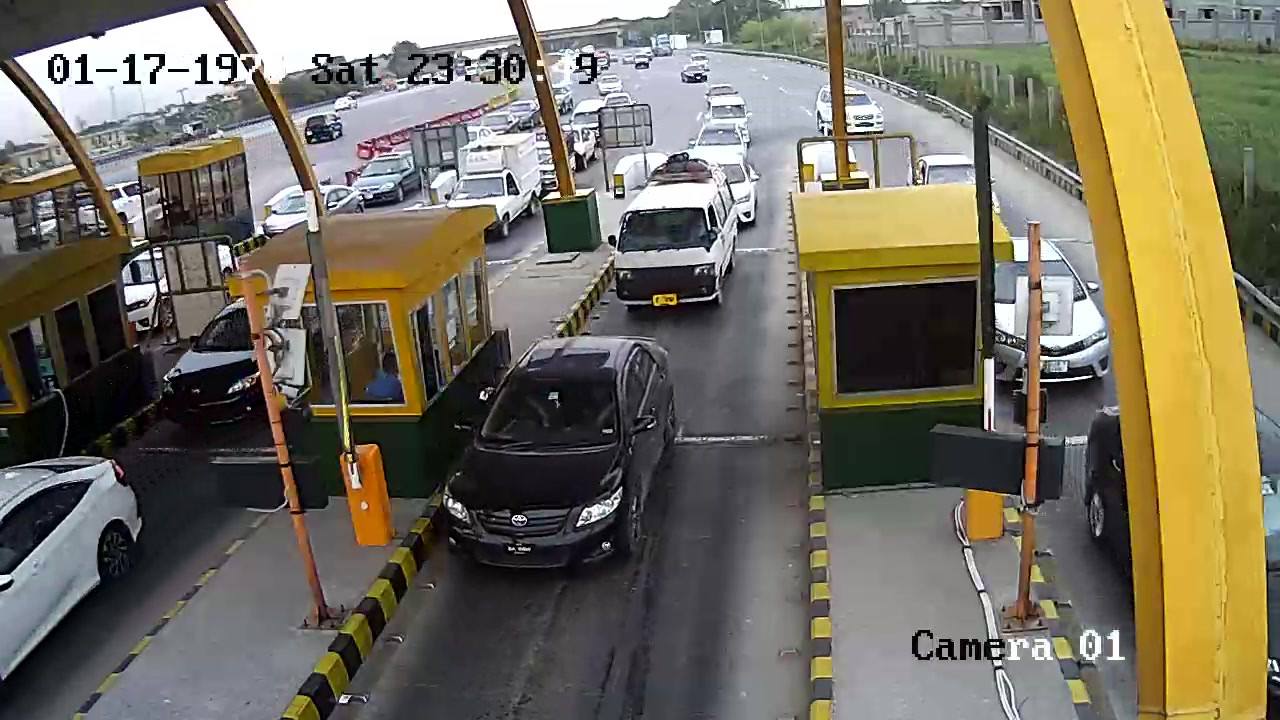F1: (442, 328, 678, 574)
F2: (609, 155, 746, 315)
